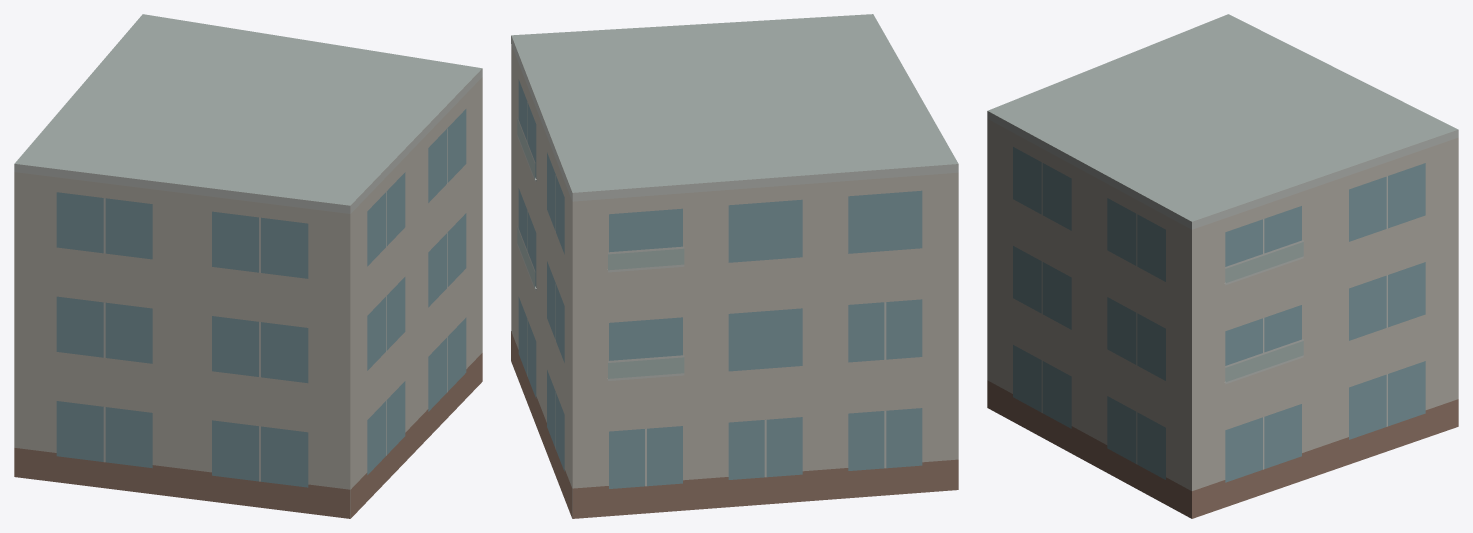
File: survey-upis-32495688.glb
The picture shows the model from 3 angles, left to right: view 1: azimuth 30°, elevation 25°; view 2: azimuth 150°, elevation 25°; view 3: azimuth 270°, elevation 25°; orthographic projection. The views are drawn at different scales.
Parts seen in each view (by area): view 1: survey-upis-32495688.tmp; view 2: survey-upis-32495688.tmp; view 3: survey-upis-32495688.tmp.
Boxes of the visible parts, <box> form: survey-upis-32495688.tmp: <box>14,14,482,518</box>; survey-upis-32495688.tmp: <box>511,14,958,518</box>; survey-upis-32495688.tmp: <box>987,14,1458,518</box>.
Bounding box in the file's own units: 13.74 × 9.15 × 13.16.
